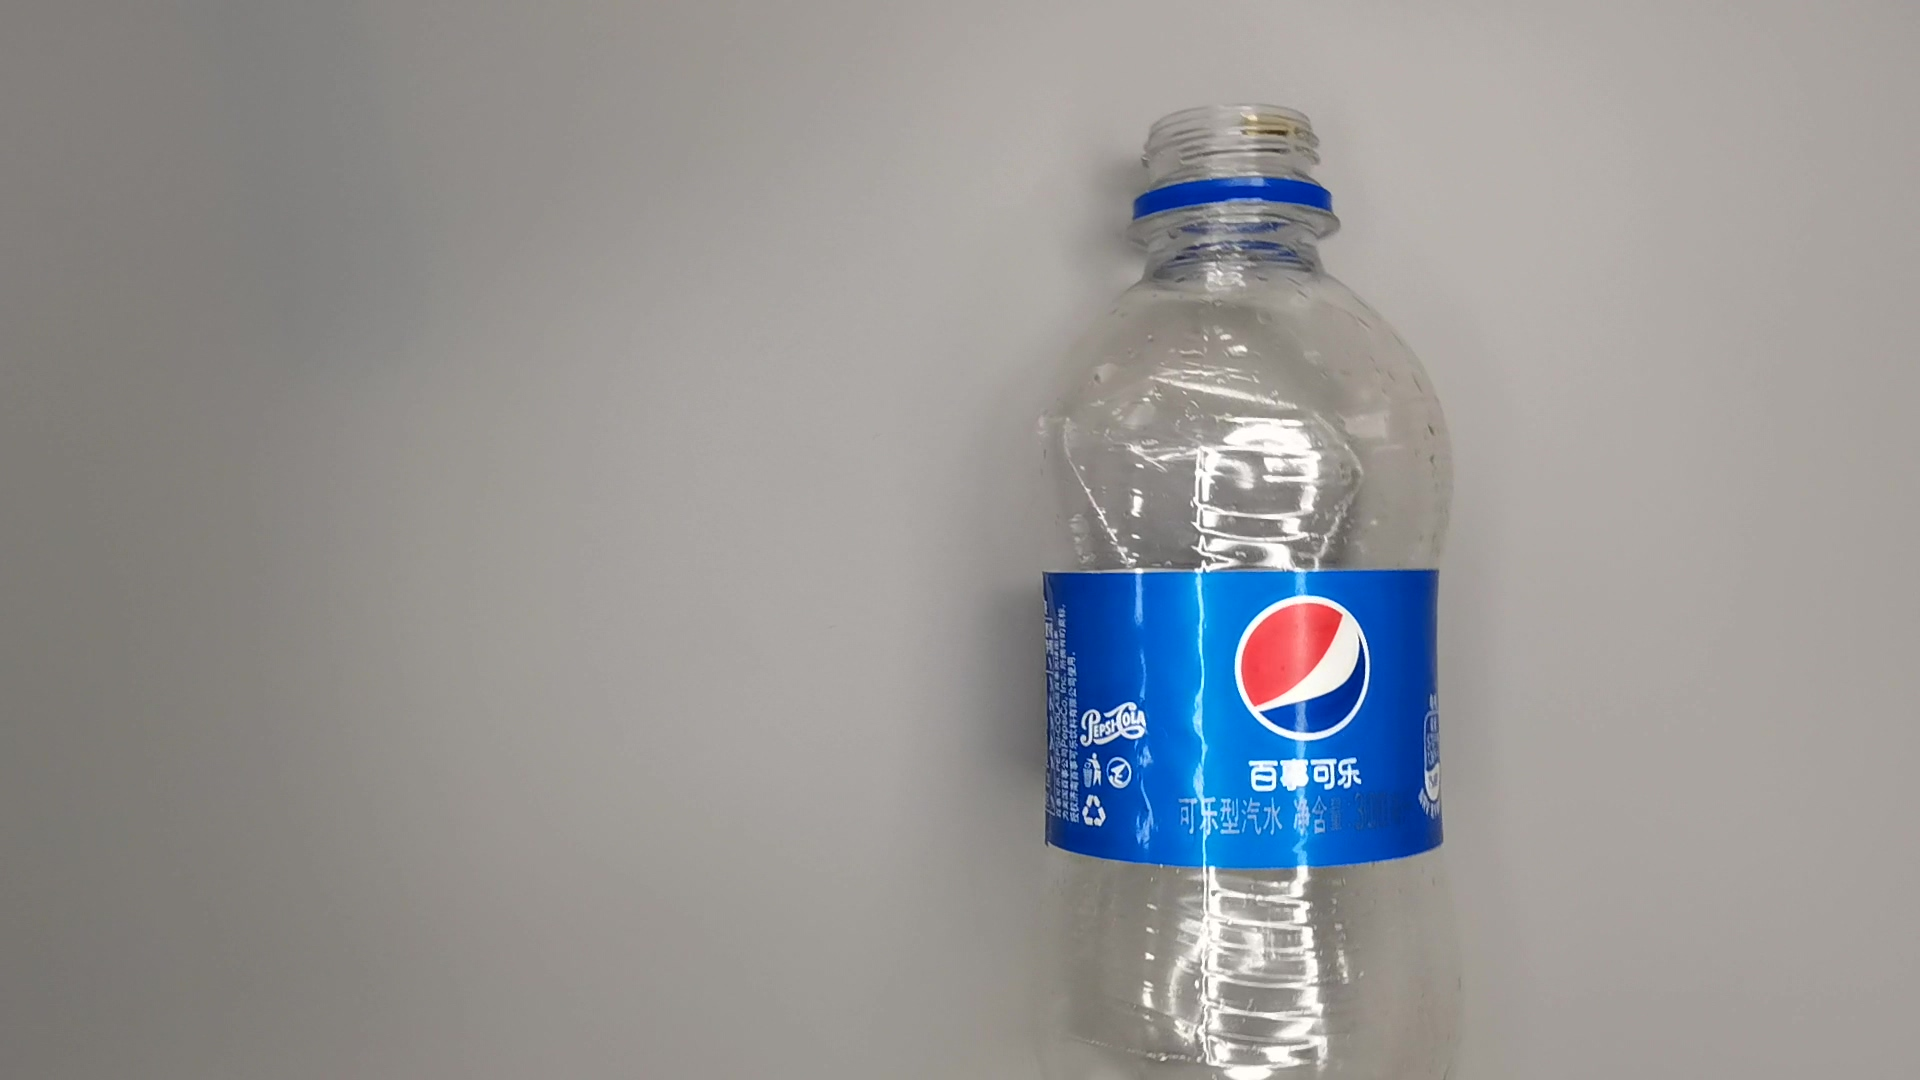bottle: (1022, 91, 1480, 1080)
